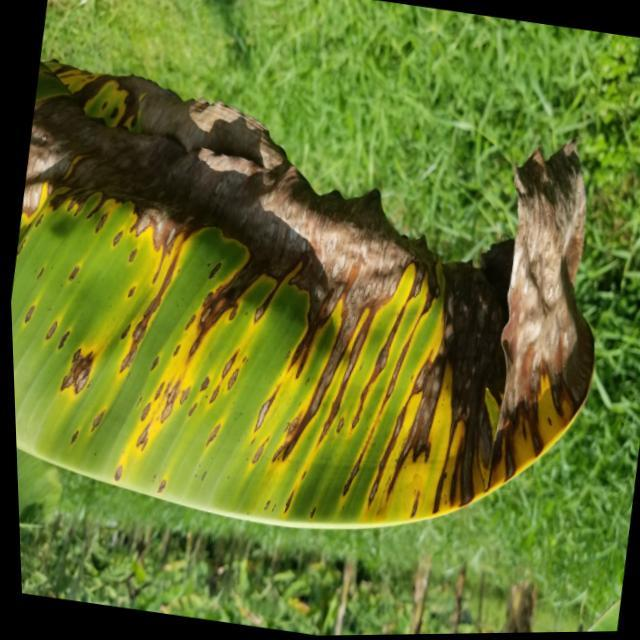Early_rust: (0, 45, 640, 530)
